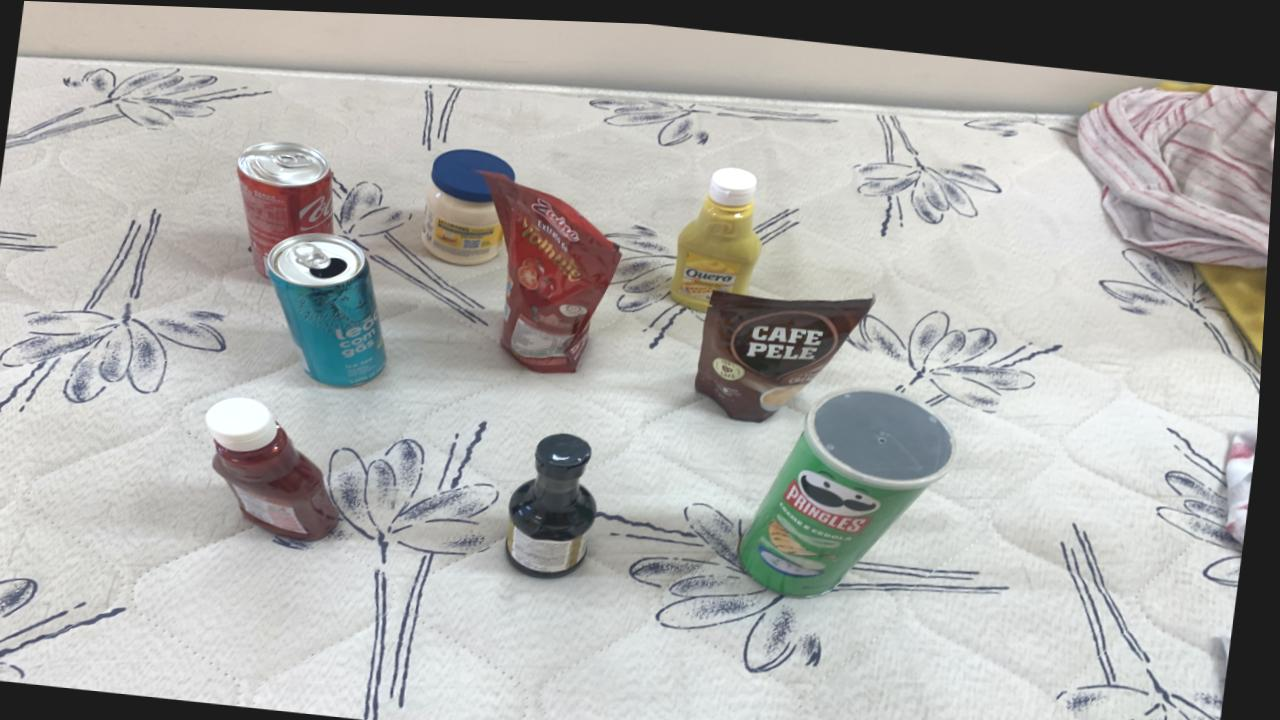Coffee-Pantry_Items: (698, 284, 877, 415)
Coke-Drinks: (238, 138, 335, 273)
English_Sauce-Pantry_Items: (511, 428, 602, 573)
Ketchup-Pantry_Items: (211, 395, 344, 539)
Mayonnaise-Pantry_Items: (424, 144, 517, 261)
Mustard-Pantry_Items: (672, 161, 763, 306)
Pringles-Snacks: (744, 380, 961, 590)
Tea-Drinks: (268, 230, 390, 384)
Tomato_Sauce-Pantry_Items: (484, 167, 623, 369)
